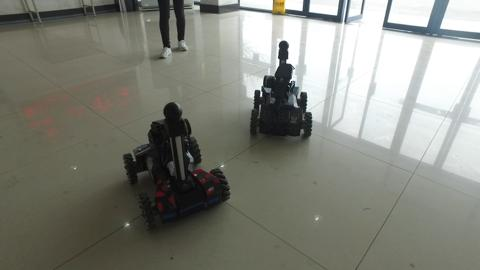chariot: (118, 98, 233, 240), (245, 39, 314, 137)
